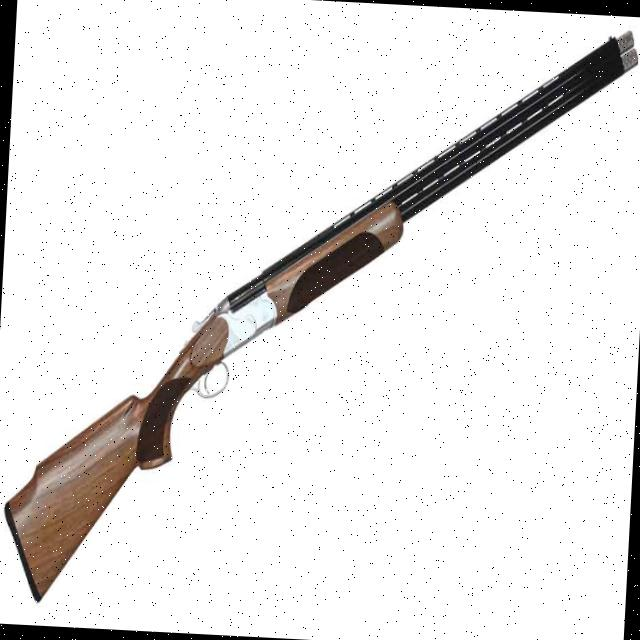Shotgun: (0, 10, 640, 616)
